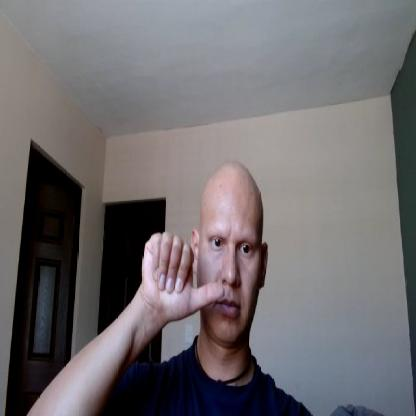A: (142, 230, 224, 322)
